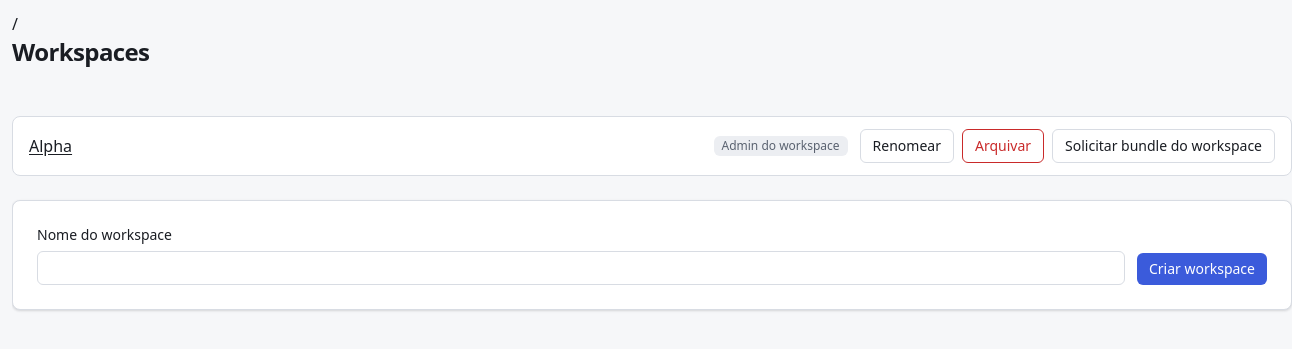
Test: WorkspaceListPage (NAV-01, NAV-06..08, NAV-13..23) › rename: the list shows the old name until the PATCH resolves 200, then the new name (NAV-14)
Expected: the link "Alpha" is shown, [29,135,72,157]
Click the button "Renomear" at (907, 146), box [860,129,954,163]
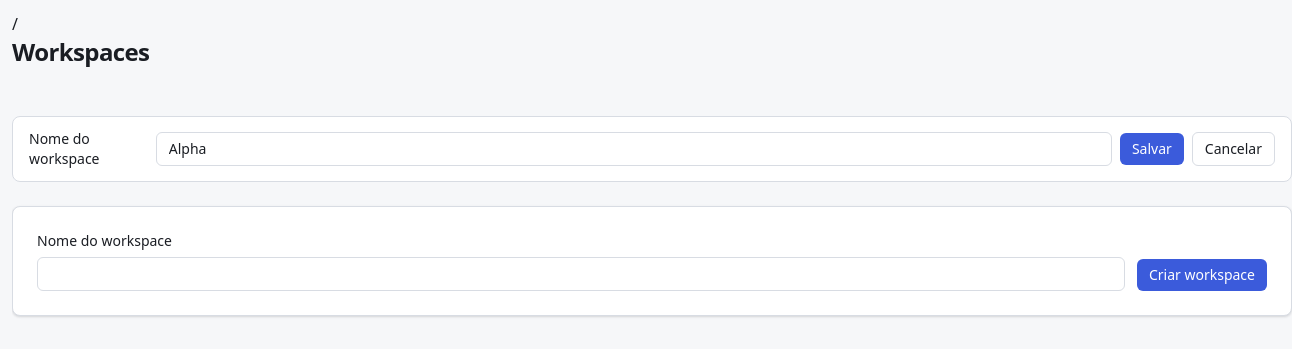
Replace the text in the 1st field labelled "Nome do workspace" with "Alpha 2" at (634, 149), box [156,132,1112,166]
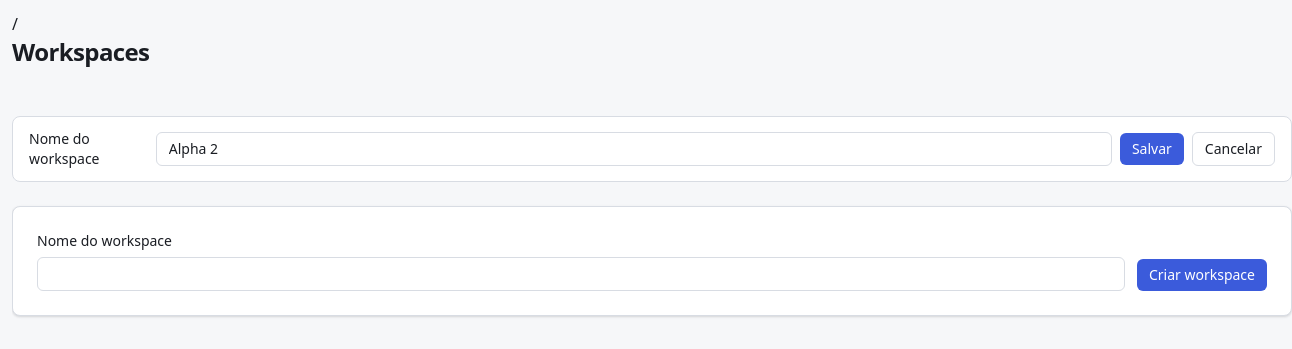
Click the button "Salvar" at (1152, 149), box [1120,133,1184,165]
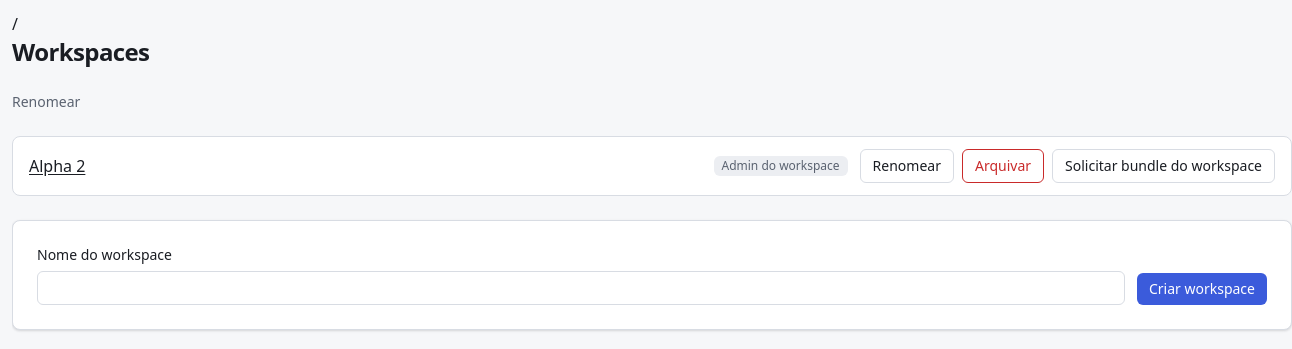
Expected: the link "Alpha 2" is shown, [29,155,85,177]
